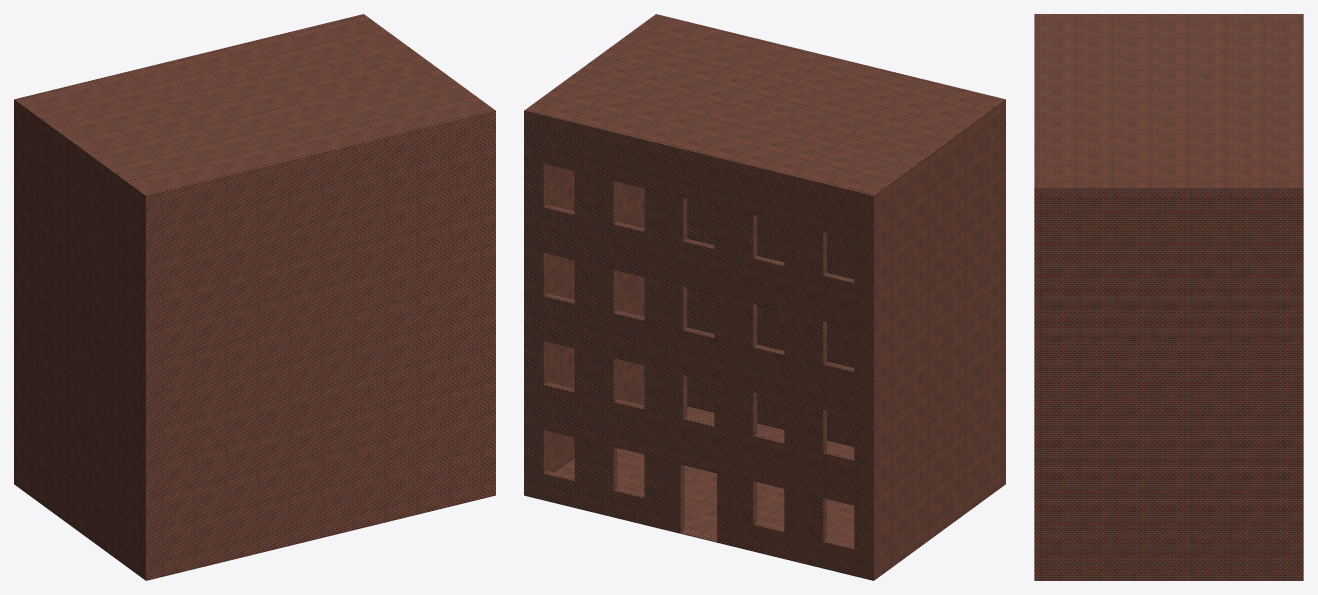
Rendered from Street_BlockR4.obj.
3 views of the same model, side by side, from view 1: azimuth 30°, elevation 25°; view 2: azimuth 150°, elevation 25°; view 3: azimuth 270°, elevation 25° (orthographic). The views are drawn at different scales.
Size of the model in its own units: 13 by 13.67 by 8.5.
Materials: 1 (1 with a texture image).
